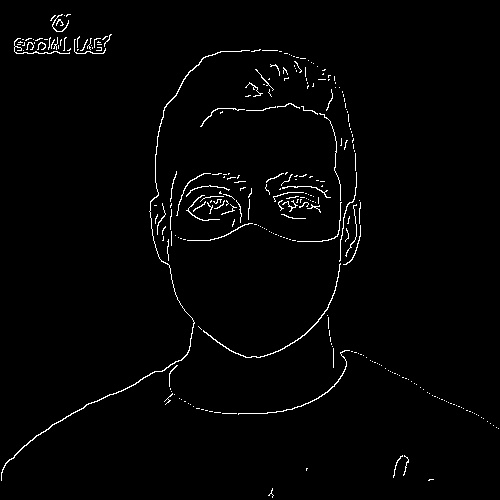mask: (169, 226, 348, 356)
